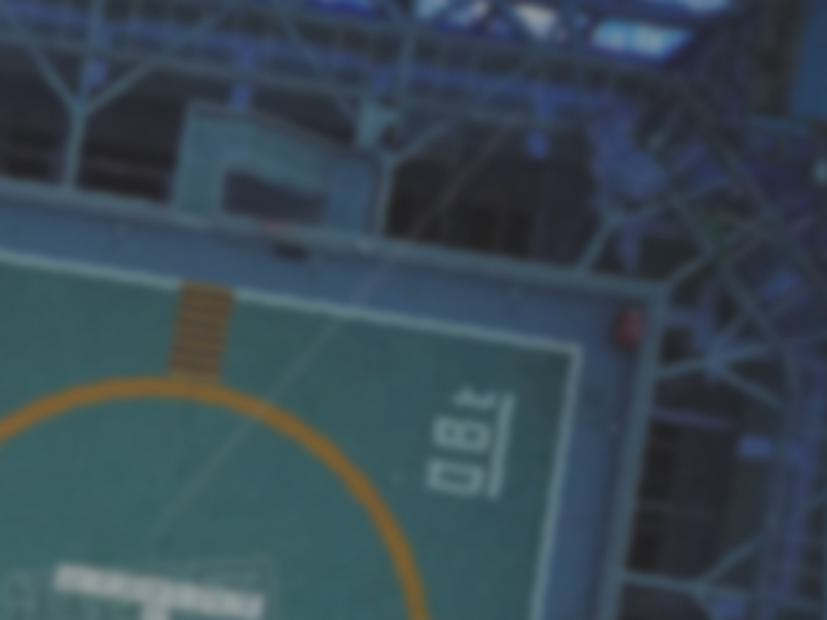Apron: (1, 347, 450, 611)
